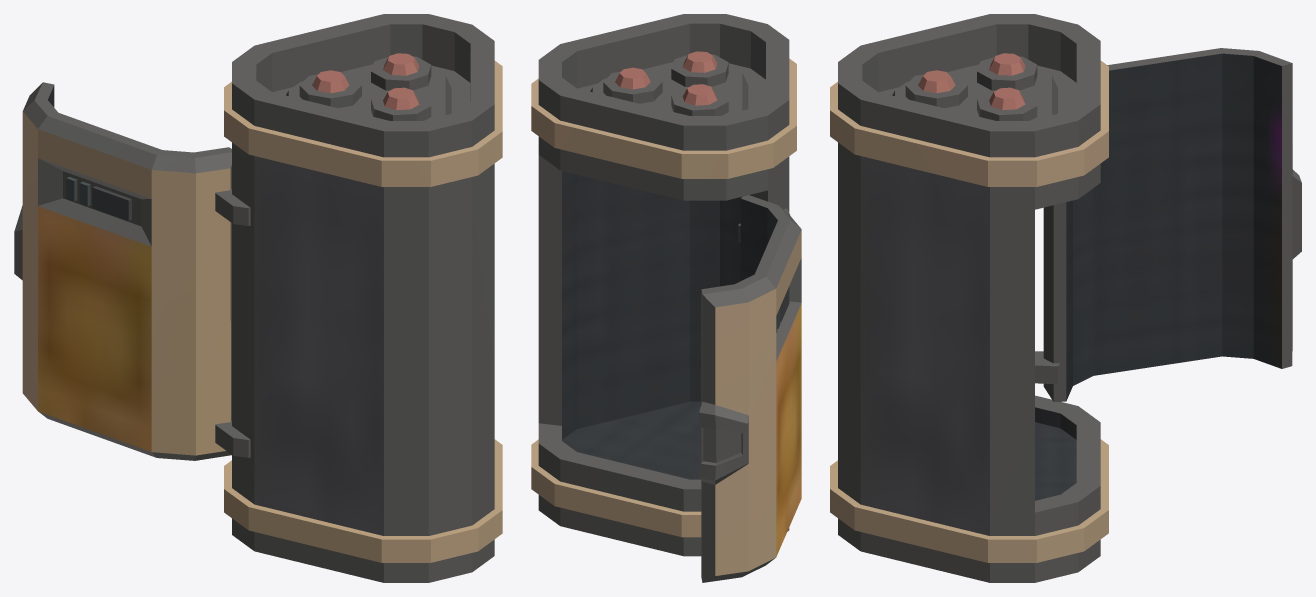
File: entity75924.glb
3 views of the same model, side by side, from view 1: azimuth 30°, elevation 25°; view 2: azimuth 150°, elevation 25°; view 3: azimuth 270°, elevation 25° (orthographic). The views are drawn at different scales.
Parts seen in each view (by area): view 1: node_SM_Prop_Crate_10 (8), node_SM_Prop_Crate_10_Lid_01; view 2: node_SM_Prop_Crate_10 (8), node_SM_Prop_Crate_10_Lid_01; view 3: node_SM_Prop_Crate_10 (8), node_SM_Prop_Crate_10_Lid_01.
Part boxes in pixels (box(x1,y1,x2,y2)): node_SM_Prop_Crate_10 (8): box(215, 14, 502, 582); node_SM_Prop_Crate_10_Lid_01: box(14, 82, 231, 460); node_SM_Prop_Crate_10 (8): box(531, 14, 796, 556); node_SM_Prop_Crate_10_Lid_01: box(699, 195, 801, 582); node_SM_Prop_Crate_10 (8): box(830, 14, 1108, 582); node_SM_Prop_Crate_10_Lid_01: box(1043, 48, 1301, 401).
Size of the model in its own units: 1.54 by 1.9 by 1.8.
1 material, 1 textured.
